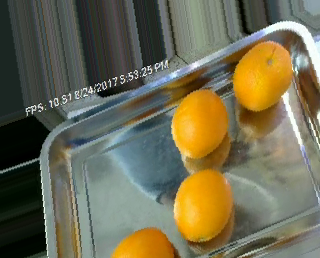Orange: (232, 41, 294, 112), (173, 169, 233, 242), (169, 88, 228, 159)
